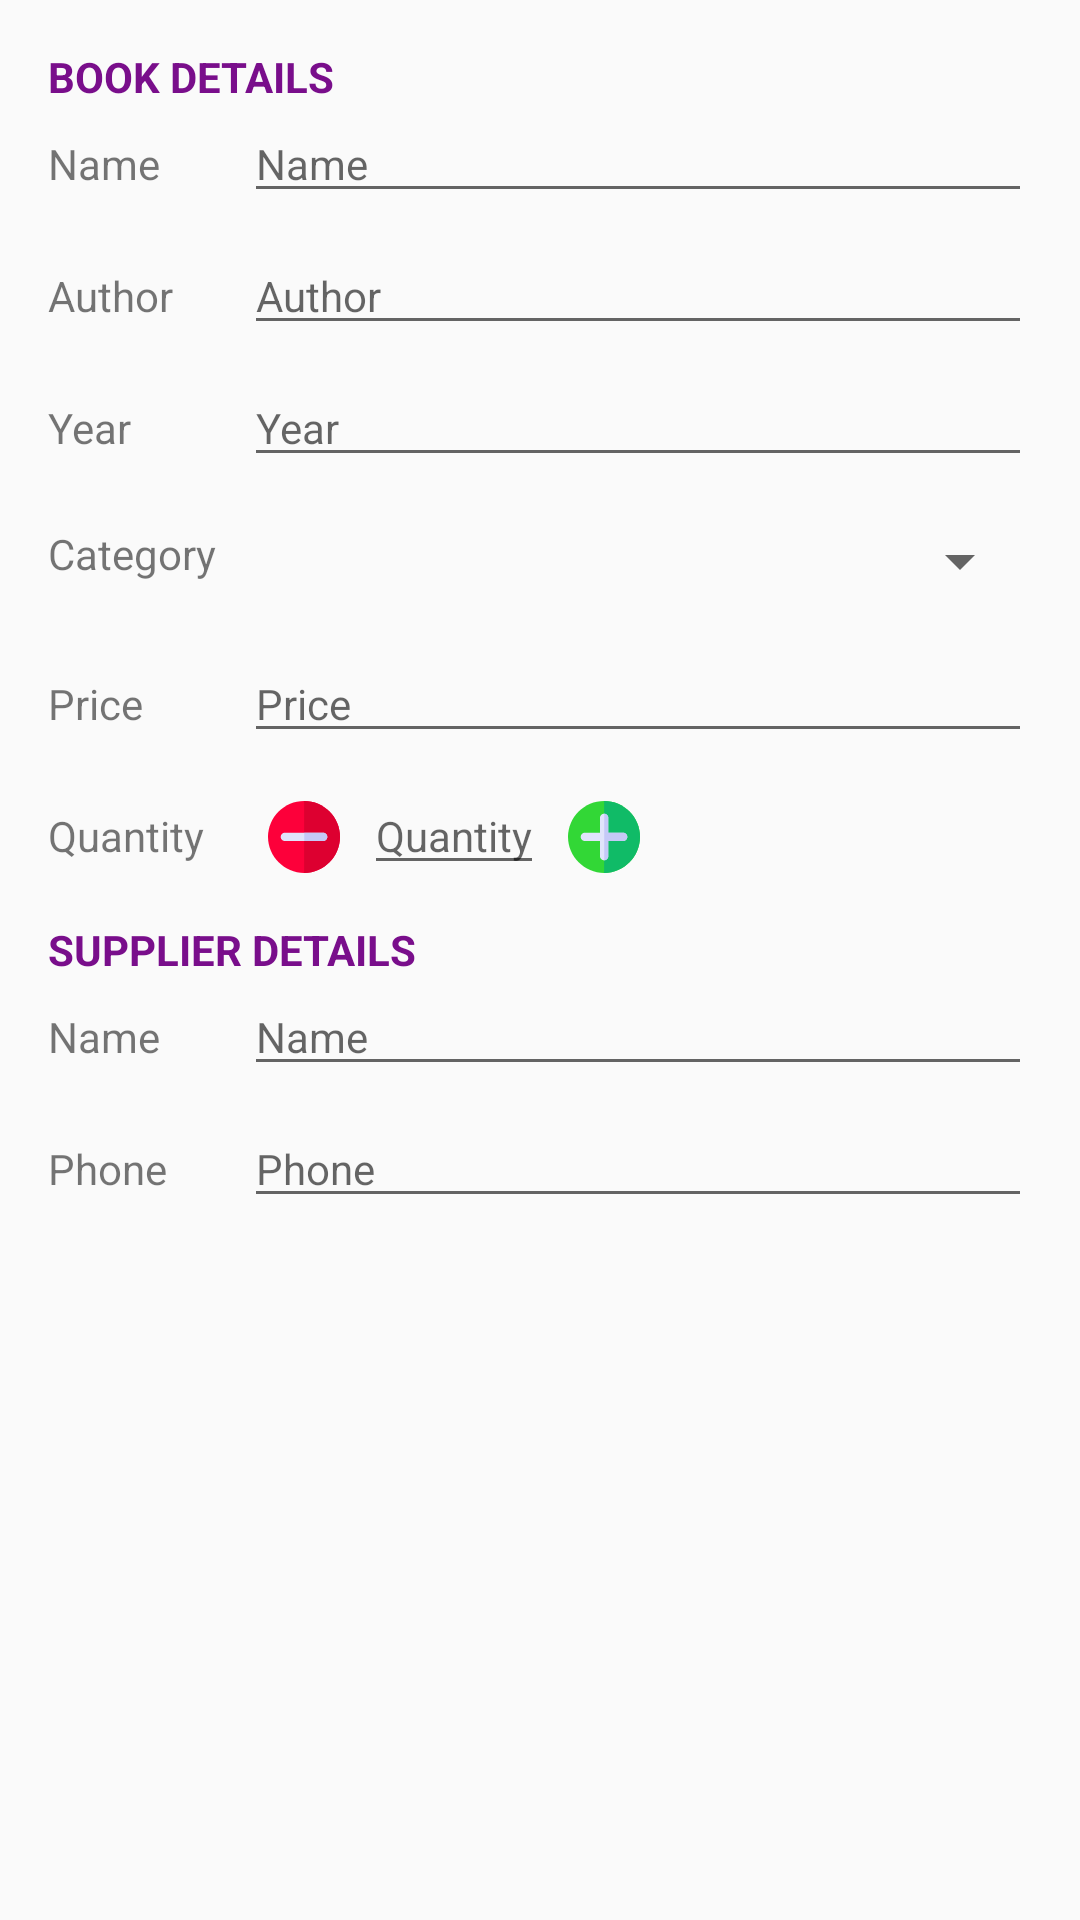

Screen size 1080px x 1920px. Icon name, then its center in pixels as [x,y]:
Decrease: [304,837]
Increase: [604,837]
